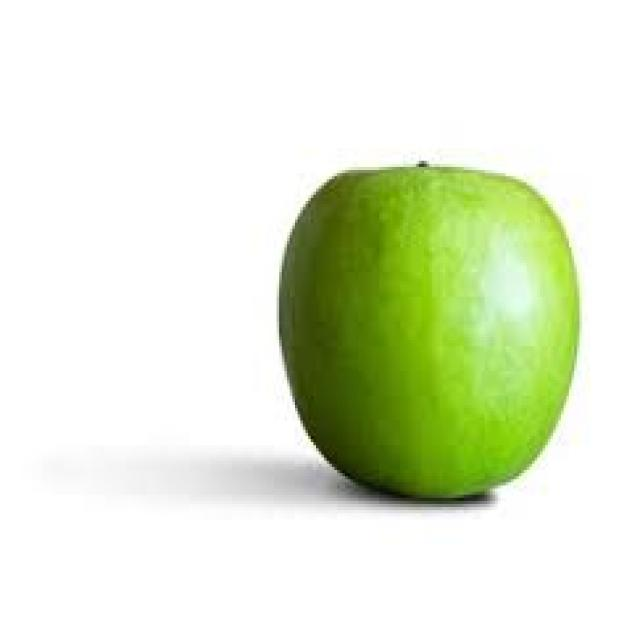organic waste: (276, 158, 576, 494)
